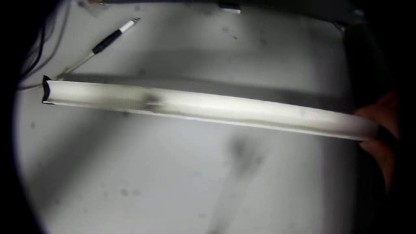gangzhu: (138, 92, 161, 109)
